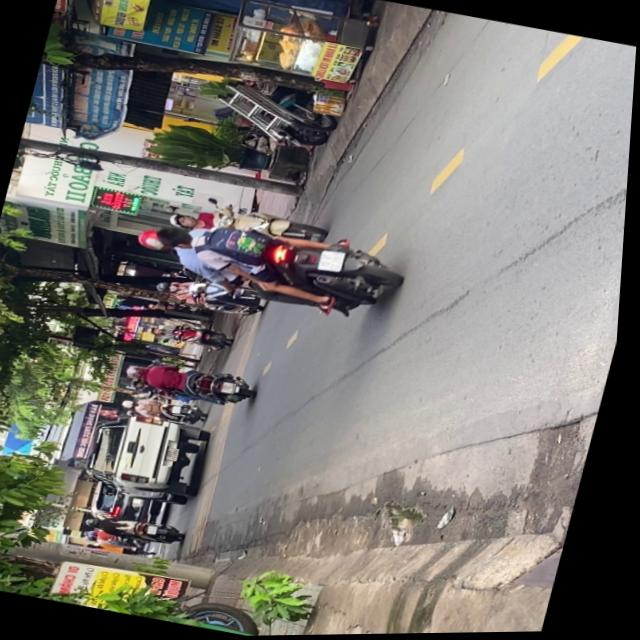helmet: (137, 224, 174, 252), (129, 363, 151, 379)
licenseplate: (125, 199, 414, 330), (124, 352, 264, 412)
motorcyclist: (155, 223, 199, 252)
nohelmet: (319, 249, 348, 274), (225, 382, 242, 395)
